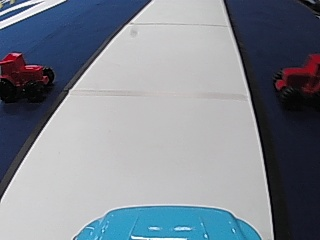tractor: (0, 49, 54, 103), (272, 51, 319, 112)
